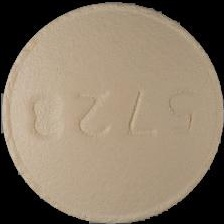55154-7552: (0, 0, 224, 224)
